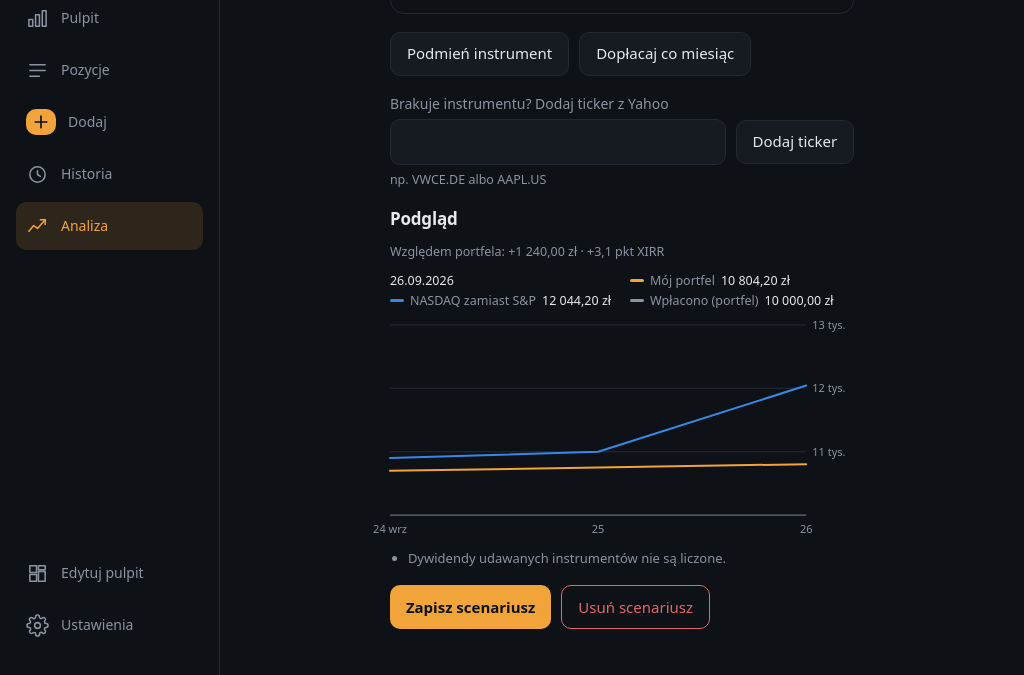
Test case: Scenario editor › deletes a saved scenario after a confirmation
(page scrolled)
Click the button "Usuń scenariusz" at (636, 607), box x1=561 y1=585 x2=710 y2=629
(page scrolled)
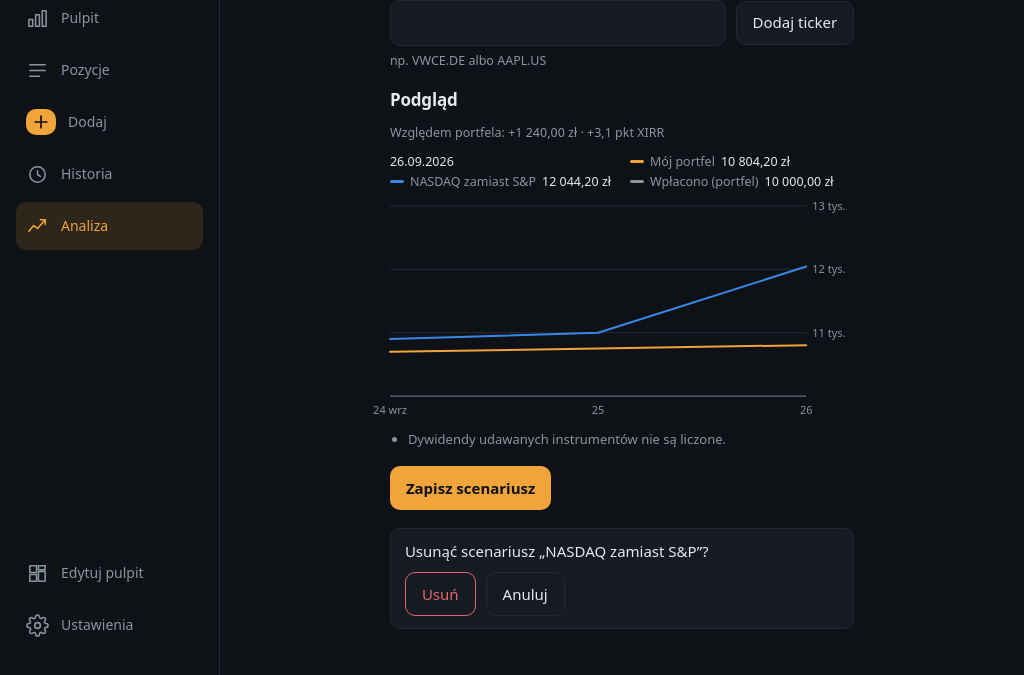
Click the button "Usuń" at (440, 594), box x1=405 y1=572 x2=476 y2=616
(page scrolled)
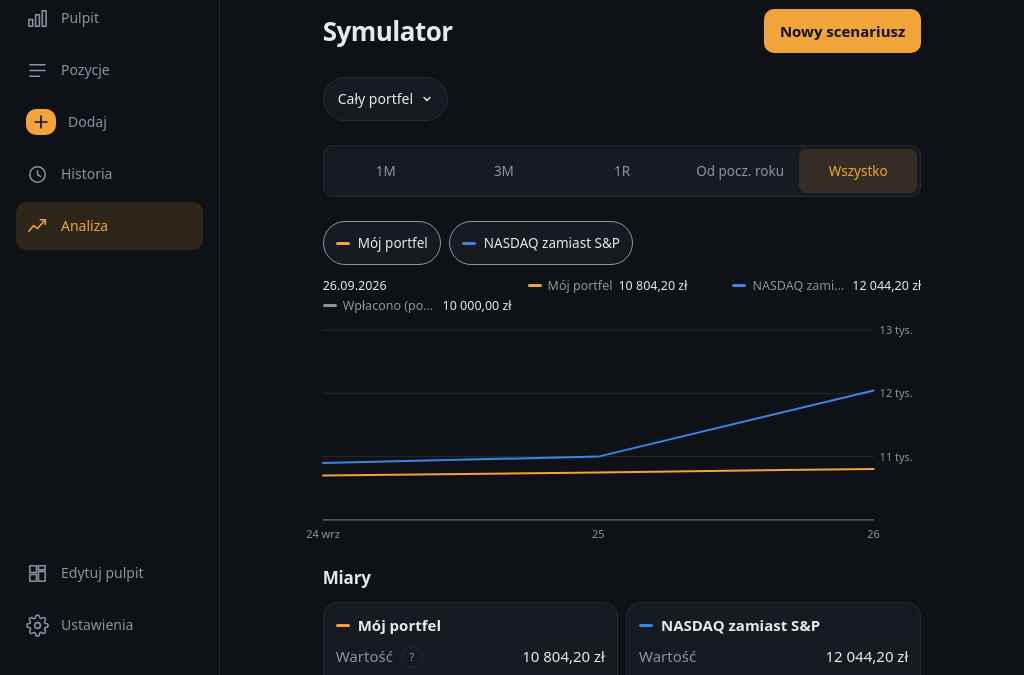
Now the heading "Symulator" is shown, box x1=323 y1=13 x2=453 y2=49
